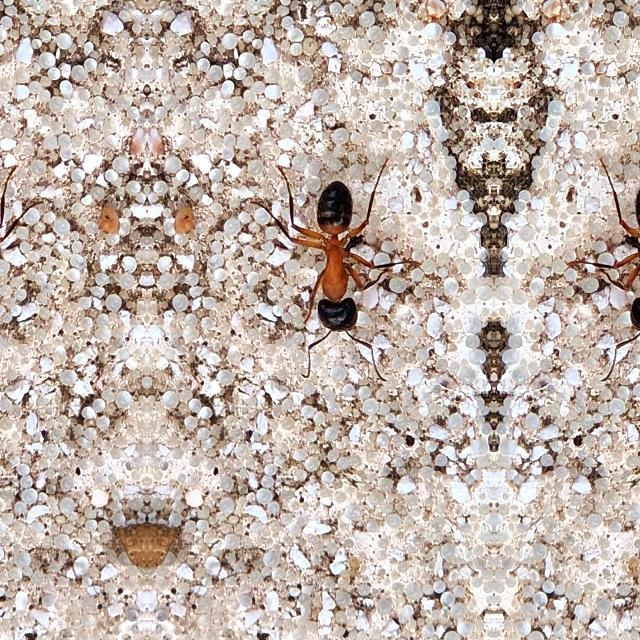Camponotus: (294, 159, 382, 373), (604, 159, 640, 373)
